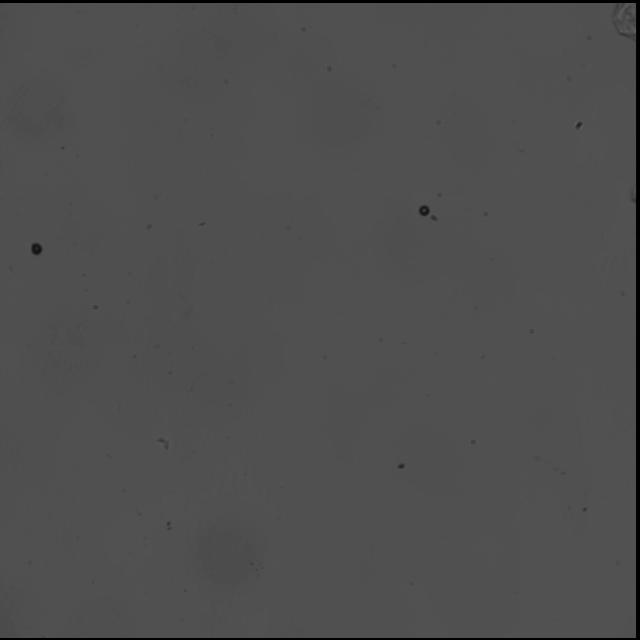microbeads: (30, 240, 44, 254), (418, 202, 430, 216)
